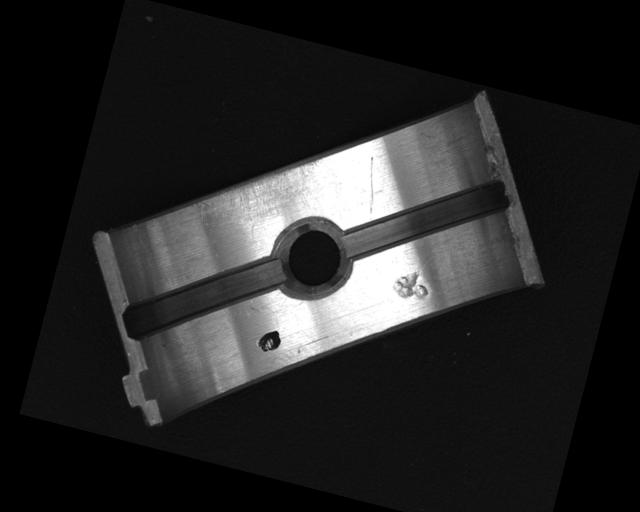blot: (255, 325, 283, 356)
bruise: (390, 264, 434, 304)
gap: (340, 146, 514, 290), (119, 227, 288, 370)
hole: (263, 210, 362, 309)
nick: (355, 156, 388, 221)
scratch: (178, 125, 326, 256)
